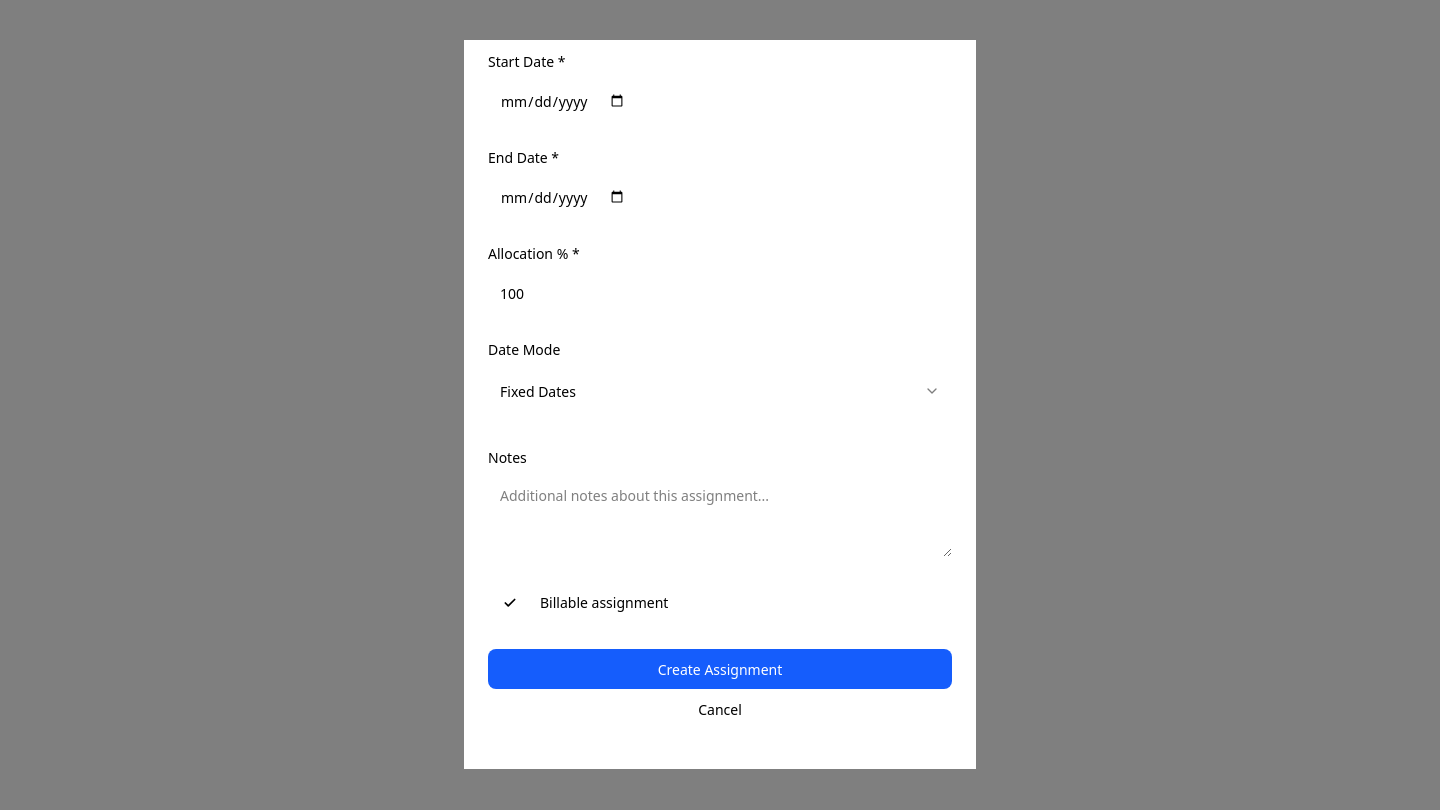
Test: AssignmentModalNew › Form Validation › shows error when submitting without project
(page scrolled)
Click the button "Create Assignment" at x=720, y=670, box [488,650,952,690]
(page scrolled)
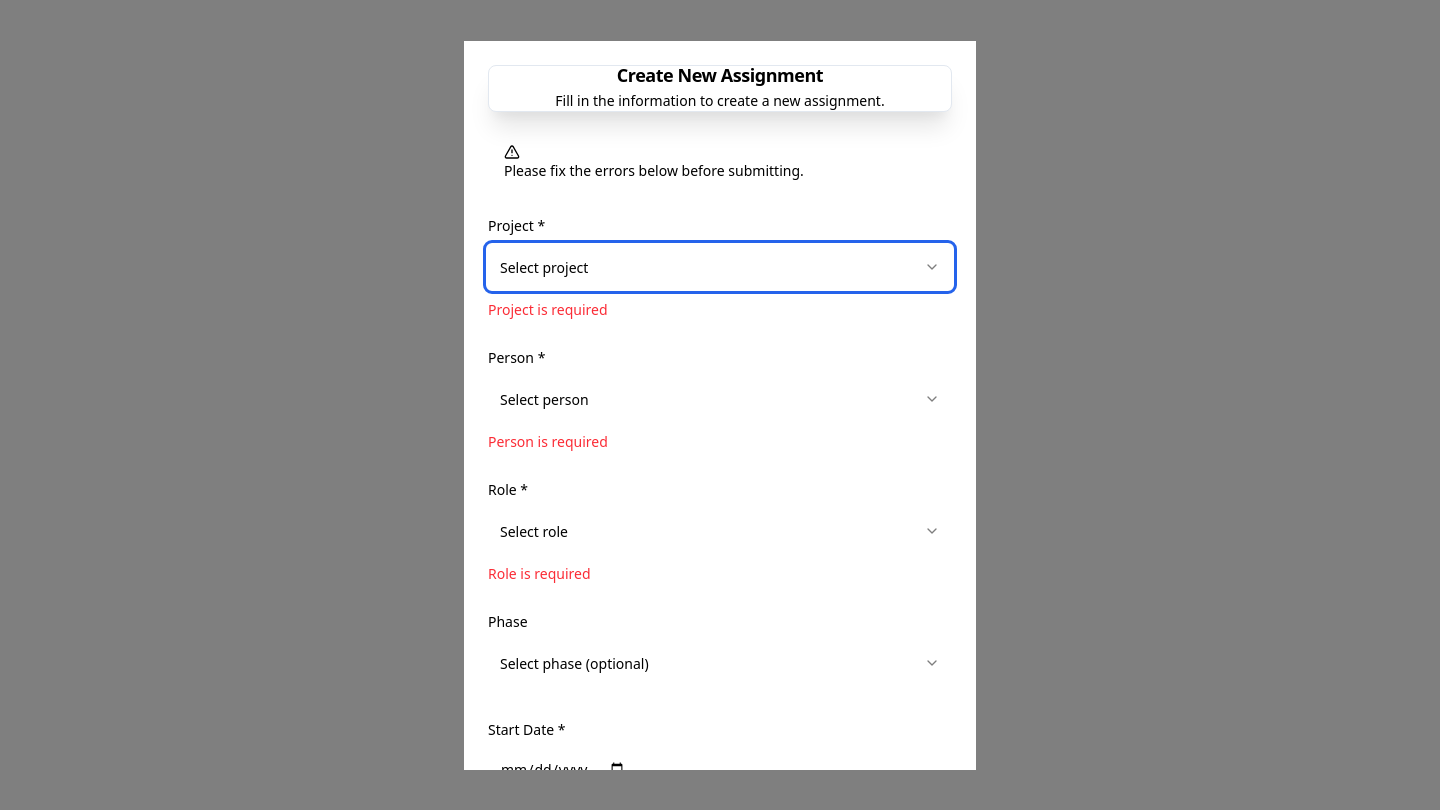
Now the text "Project is required" is shown, box [488,300,608,318]
